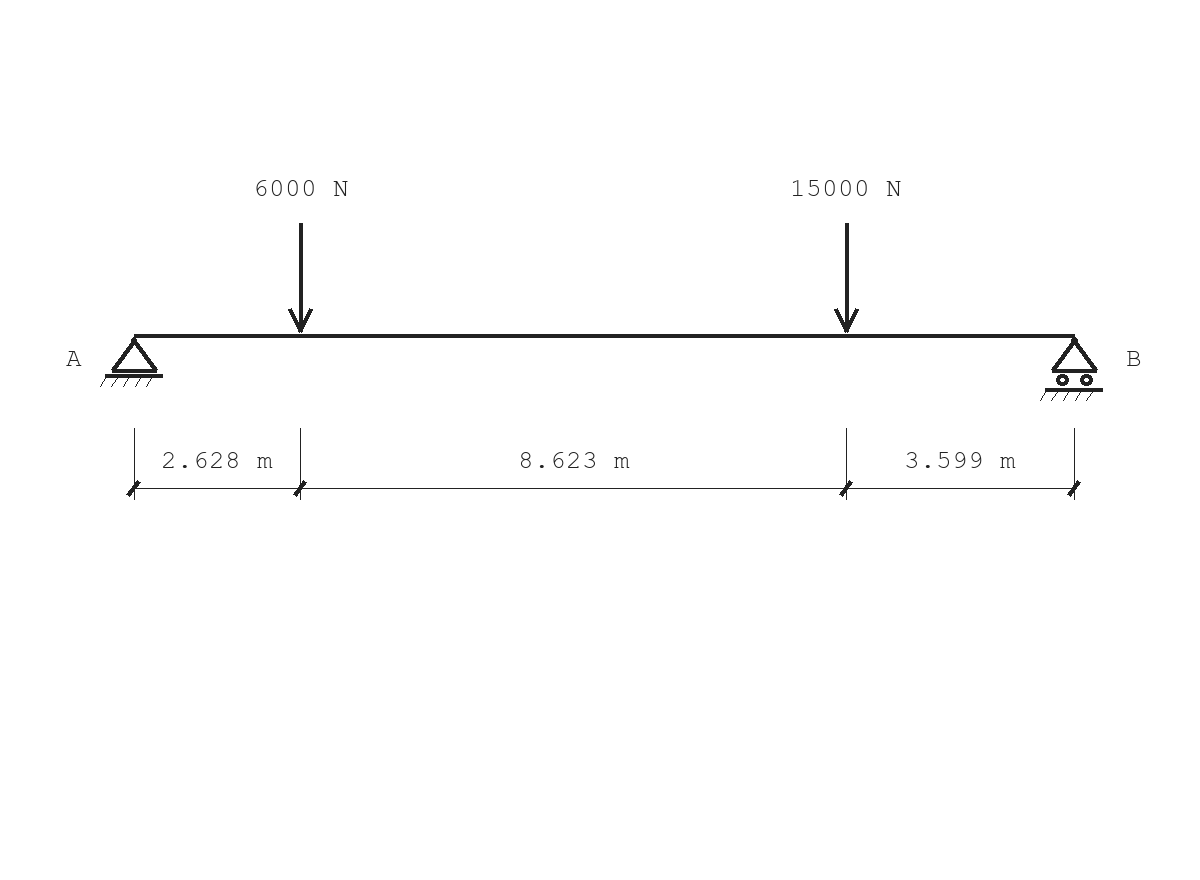pin_support: (100, 337, 163, 387)
point_load: (288, 223, 313, 333), (834, 223, 859, 333)
roller_support: (1040, 337, 1103, 401)
